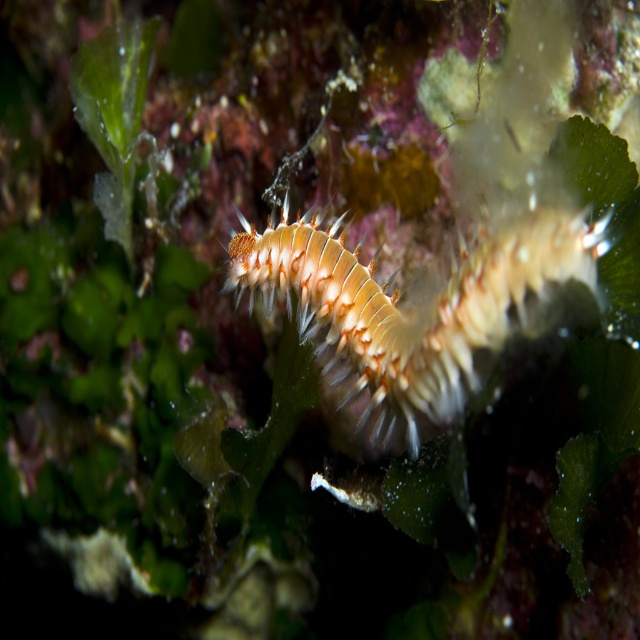Centipede: (220, 204, 616, 457)
